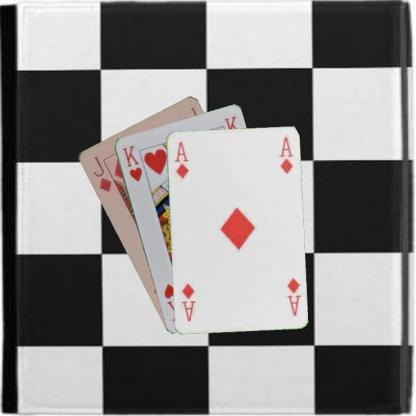Ad: (283, 275, 302, 317), (172, 138, 190, 180)
Jd: (90, 153, 113, 194)
Kh: (119, 143, 143, 183)
